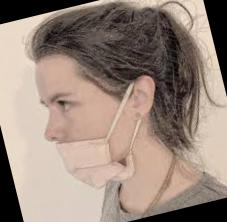mask_weared_incorrect: (29, 68, 135, 203)
